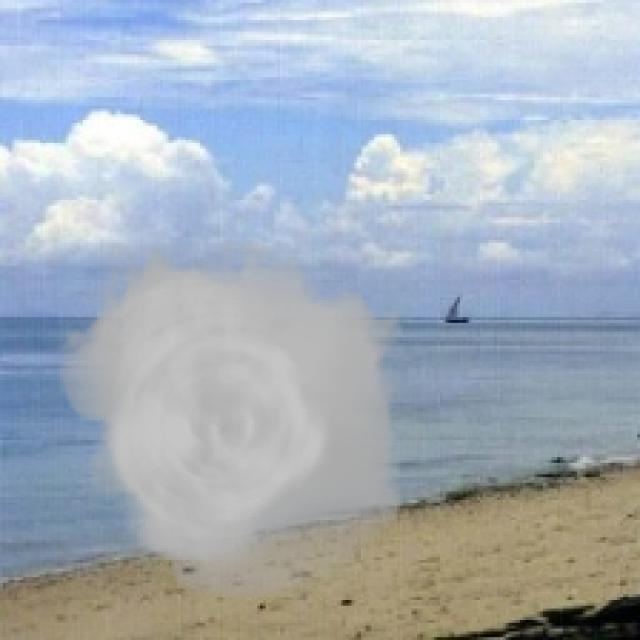Smoke: (46, 243, 420, 600)
